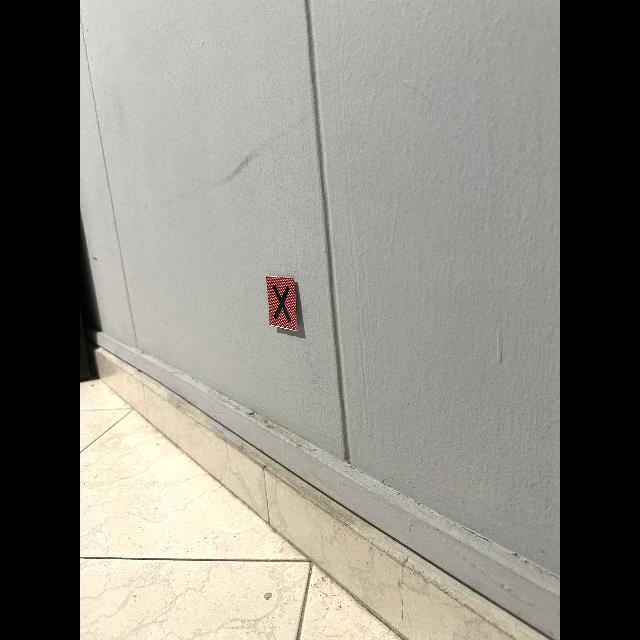X: (273, 285, 290, 321)
